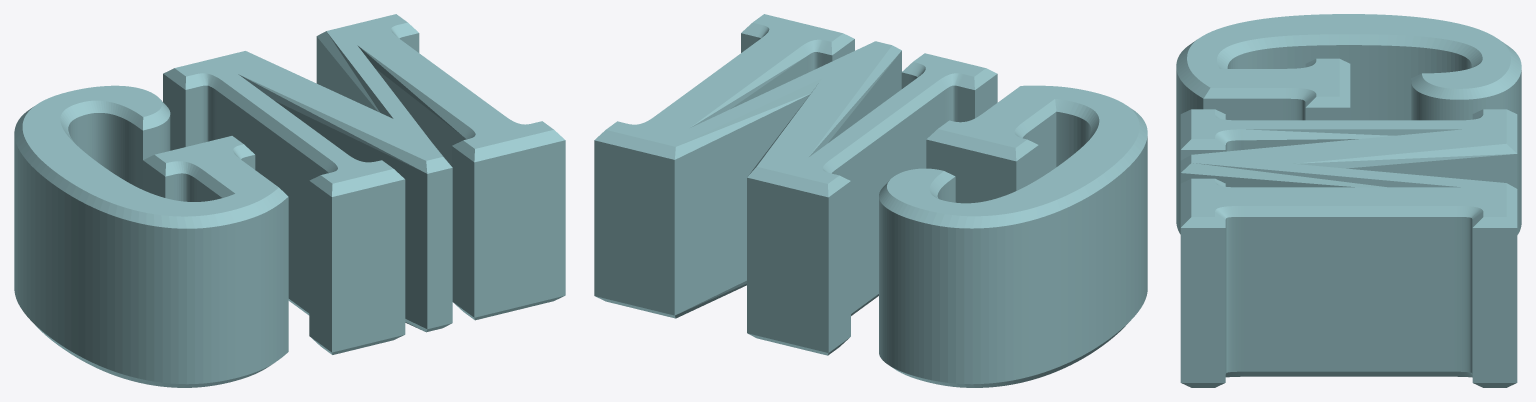
The picture shows the model from 3 angles, left to right: view 1: azimuth 30°, elevation 25°; view 2: azimuth 150°, elevation 25°; view 3: azimuth 270°, elevation 25°; orthographic projection.
Parts seen in each view (by area): view 1: Mesh_Mesh_head_geo.001_lambert2SG.001; view 2: Mesh_Mesh_head_geo.001_lambert2SG.001; view 3: Mesh_Mesh_head_geo.001_lambert2SG.001.
Boxes of the visible parts, x1=… form: Mesh_Mesh_head_geo.001_lambert2SG.001: x1=14, y1=14, x2=565, y2=387; Mesh_Mesh_head_geo.001_lambert2SG.001: x1=594, y1=14, x2=1147, y2=387; Mesh_Mesh_head_geo.001_lambert2SG.001: x1=1176, y1=14, x2=1521, y2=387.
Bounding box in the file's own units: 133 × 50.59 × 92.67.
